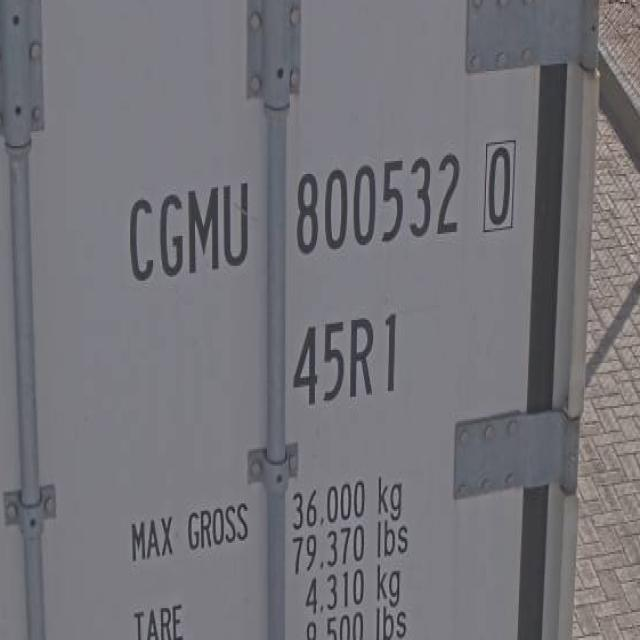dv: (478, 132, 520, 239)
owner: (126, 167, 253, 289)
serial: (291, 141, 465, 262)
size: (289, 297, 401, 410)
